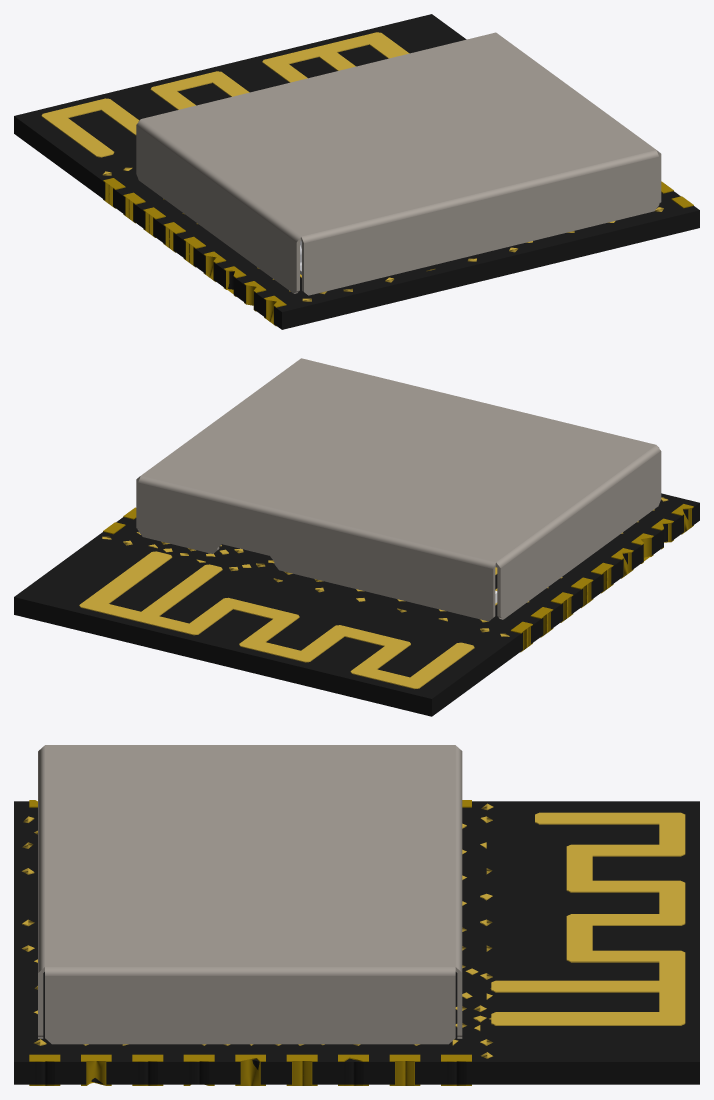
The model's file is esp-esp32-c3-wroom-02.glb.
The picture shows the model from 3 angles, top to bottom: view 1: azimuth 30°, elevation 25°; view 2: azimuth 150°, elevation 25°; view 3: azimuth 270°, elevation 25°; orthographic projection. The views are drawn at different scales.
Visible parts, largest first — view 1: 0.4166666666666667_0.3333333333333333_0.3333333333333333_0, 0_0_0_0, 0.6666666666666666_0.4166666666666667_0_0, 0.4166666666666667_0.25_0_0; view 2: 0.4166666666666667_0.3333333333333333_0.3333333333333333_0, 0_0_0_0, 0.6666666666666666_0.4166666666666667_0_0, 0.4166666666666667_0.25_0_0; view 3: 0.4166666666666667_0.3333333333333333_0.3333333333333333_0, 0_0_0_0, 0.6666666666666666_0.4166666666666667_0_0, 0.4166666666666667_0.25_0_0.
Part boxes in pixels (x1=…): 0.4166666666666667_0.3333333333333333_0.3333333333333333_0: x1=136, y1=32, x2=661, y2=295; 0_0_0_0: x1=14, y1=14, x2=699, y2=329; 0.6666666666666666_0.4166666666666667_0_0: x1=41, y1=32, x2=663, y2=301; 0.4166666666666667_0.25_0_0: x1=103, y1=178, x2=693, y2=326; 0.4166666666666667_0.3333333333333333_0.3333333333333333_0: x1=136, y1=358, x2=661, y2=621; 0_0_0_0: x1=14, y1=493, x2=699, y2=716; 0.6666666666666666_0.4166666666666667_0_0: x1=79, y1=497, x2=668, y2=689; 0.4166666666666667_0.25_0_0: x1=103, y1=504, x2=693, y2=652; 0.4166666666666667_0.3333333333333333_0.3333333333333333_0: x1=38, y1=745, x2=462, y2=1044; 0_0_0_0: x1=14, y1=801, x2=699, y2=1084; 0.6666666666666666_0.4166666666666667_0_0: x1=22, y1=803, x2=685, y2=1058; 0.4166666666666667_0.25_0_0: x1=29, y1=800, x2=471, y2=1085.
Size of the model in its own units: 1.8 by 0.3199 by 2.
